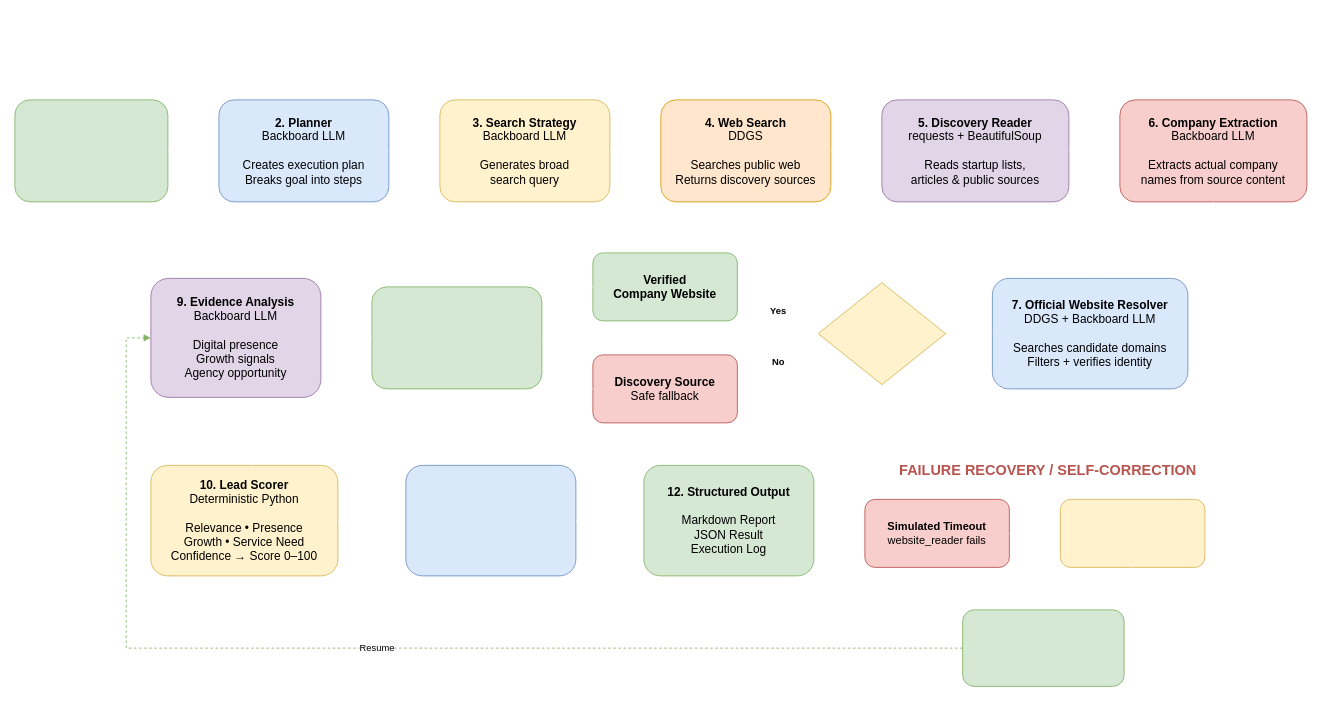
Image size: 1322x701. Some labels were removed from this diagram. Each missing label, with the box of its shape:
1. User Goal Natural-language research objective: (14, 99, 168, 202)
11. Reporter Backboard LLM Generates structured lead research report: (405, 465, 576, 576)
8. Website Reader requests + BeautifulSoup Fetches and cleans public evidence: (371, 286, 542, 389)
Continue Success → resume Retry Fails→ discovery fallback: (962, 609, 1124, 686)
Detect + Retry Logs error and retries: (1060, 499, 1205, 567)
Official website verified?: (817, 282, 946, 385)
